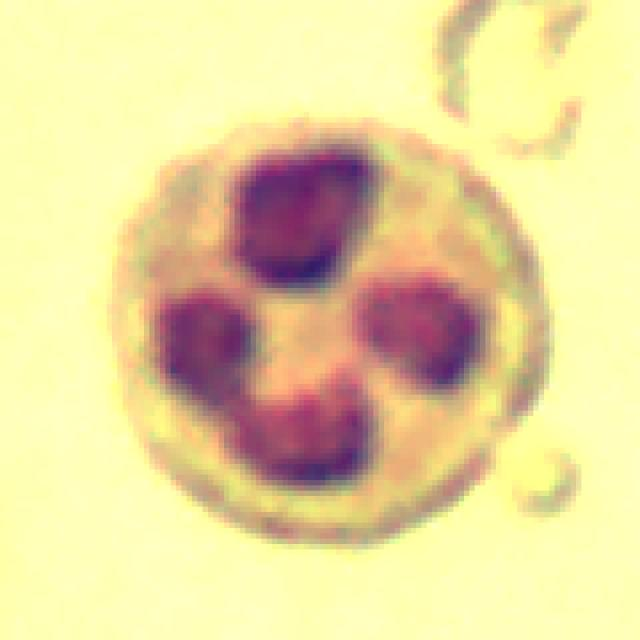WBC: (85, 101, 566, 544)
